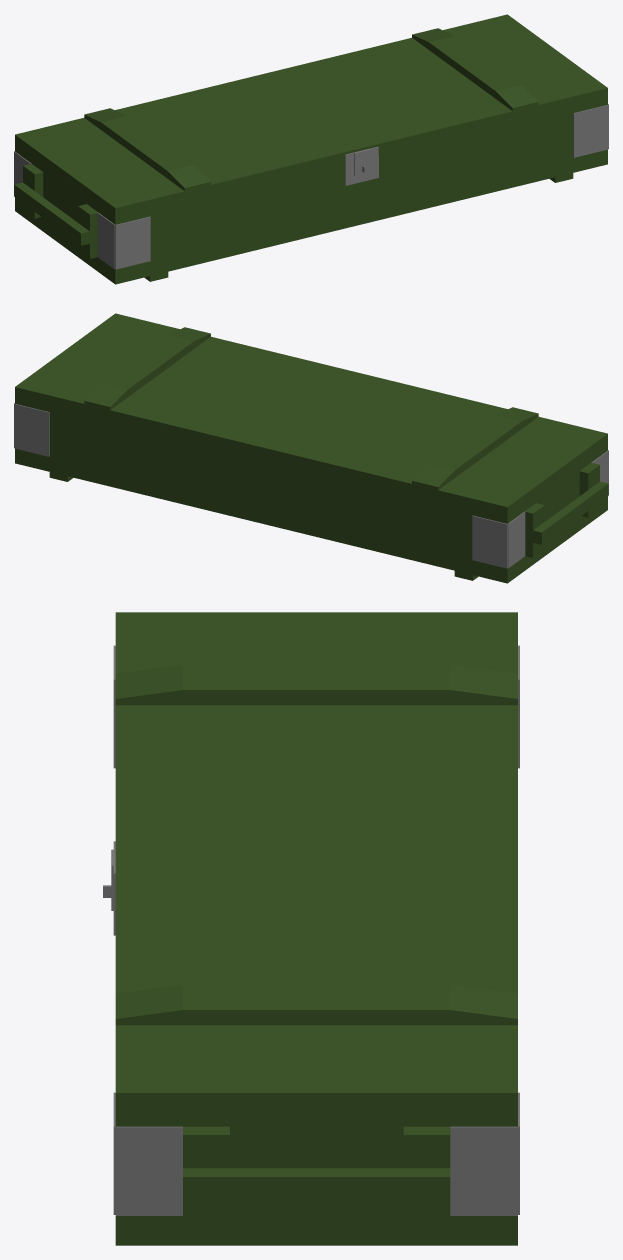
The model's file is MilitaryCrate_Small.fbx.
3 renders of one model, top to bottom at view 1: azimuth 30°, elevation 25°; view 2: azimuth 150°, elevation 25°; view 3: azimuth 270°, elevation 25°, orthographic. The views are drawn at different scales.
Visible parts, largest first — view 1: Cube; view 2: Cube; view 3: Cube.
Boxes of the visible parts, box(x1,y1,x2,y2) form: Cube: box(14, 14, 608, 284); Cube: box(14, 313, 608, 583); Cube: box(103, 612, 519, 1245).
Size of the model in its own units: 606 by 98.56 by 207.
